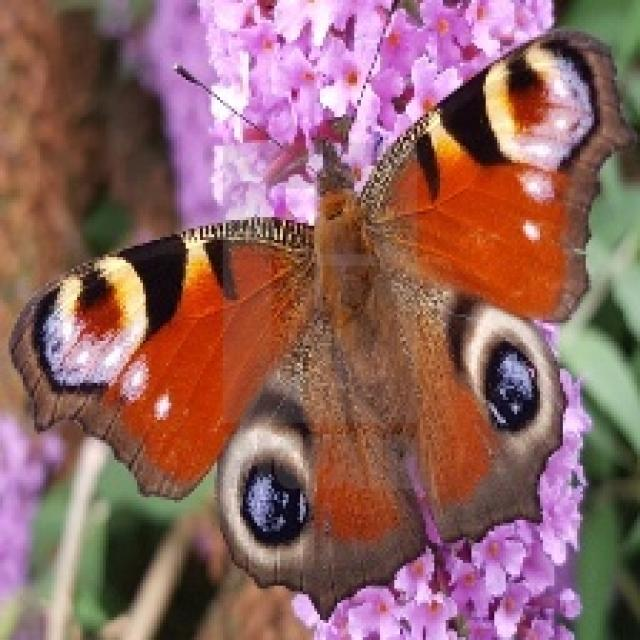butterfly: (6, 0, 637, 620)
